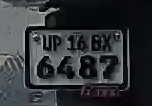1: (66, 32, 75, 54)
4: (58, 55, 76, 81), (76, 33, 88, 54)
6: (34, 54, 55, 79)
7: (99, 53, 119, 80)
8: (77, 54, 98, 81)
B: (91, 34, 102, 52)
P: (51, 34, 61, 55)
U: (41, 33, 55, 54)
X: (100, 32, 113, 56)
